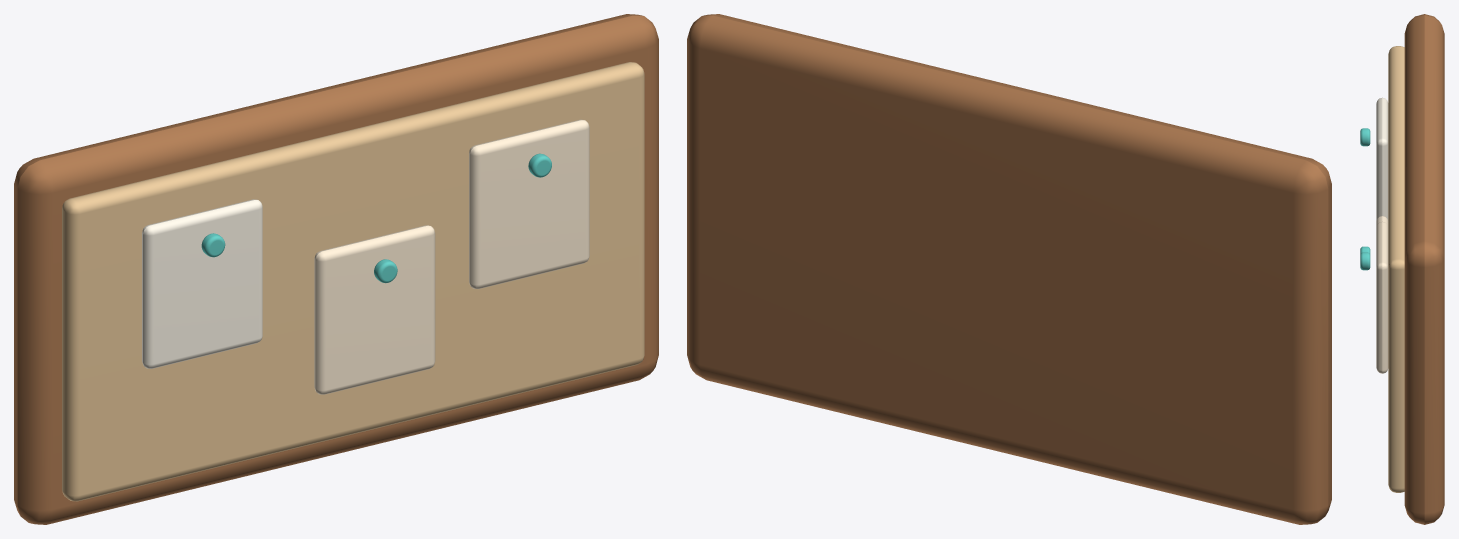
The model's file is noticeboard.glb.
3 renders of one model, left to right at view 1: azimuth 30°, elevation 25°; view 2: azimuth 150°, elevation 25°; view 3: azimuth 270°, elevation 25°, orthographic. The views are drawn at different scales.
Parts seen in each view (by area): view 1: Noticeboard inset, Noticeboard frame, Pinned notice.001, Pinned notice.002, Pinned notice; view 2: Noticeboard frame; view 3: Noticeboard frame, Noticeboard inset, Pinned notice.002, Pinned notice, Notice pin, Notice pin.002.
Part boxes in pixels (x1,y1,x2,y2): Noticeboard inset: (62,62,644,501); Noticeboard frame: (14,14,658,524); Pinned notice.001: (314,225,435,394); Pinned notice.002: (469,119,589,289); Pinned notice: (142,199,262,368); Noticeboard frame: (687,14,1331,524); Noticeboard frame: (1404,14,1444,524); Noticeboard inset: (1388,46,1404,492); Pinned notice.002: (1376,221,1388,373); Pinned notice: (1376,97,1388,220); Notice pin: (1360,128,1370,146); Notice pin.002: (1360,252,1370,270).
Size of the model in its own units: 2.85 by 1.55 by 0.42.
